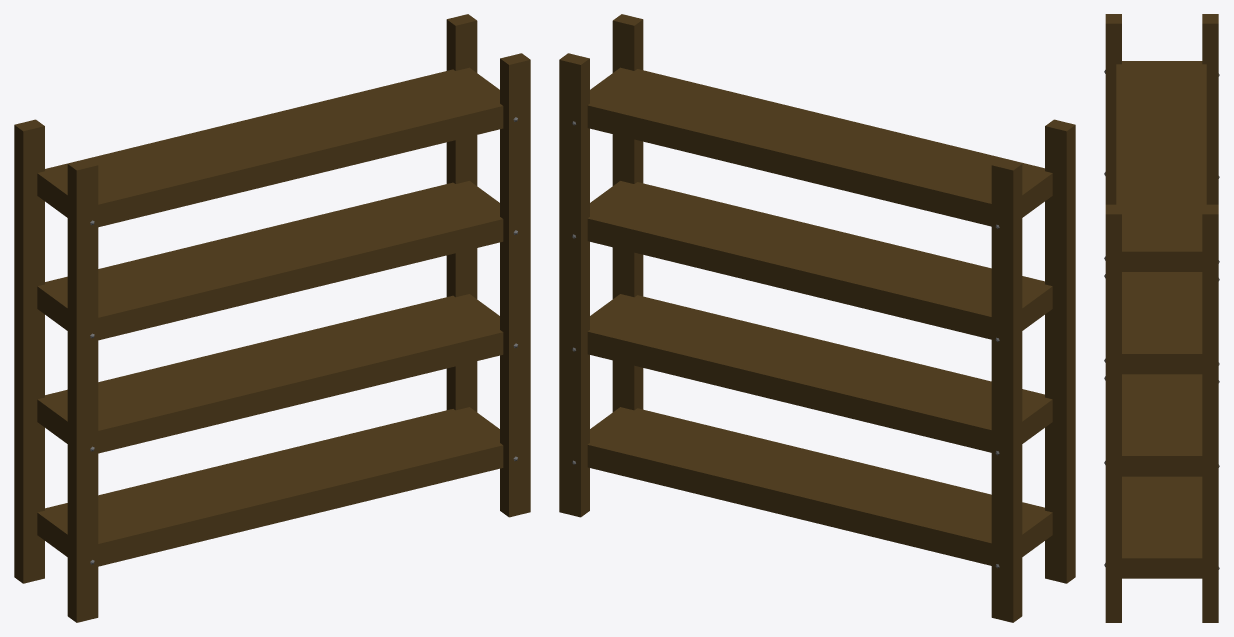
Rendered from ItemShelf.fbx.
3 views of the same model, side by side, from view 1: azimuth 30°, elevation 25°; view 2: azimuth 150°, elevation 25°; view 3: azimuth 270°, elevation 25° (orthographic). The views are drawn at different scales.
Parts seen in each view (by area): view 1: Shelf.003; view 2: Shelf.003; view 3: Shelf.003.
Part boxes in pixels (x1=…): Shelf.003: x1=14, y1=14, x2=530, y2=622; Shelf.003: x1=559, y1=14, x2=1075, y2=622; Shelf.003: x1=1105, y1=14, x2=1218, y2=622.
Size of the model in its own units: 840 by 800 by 205.
